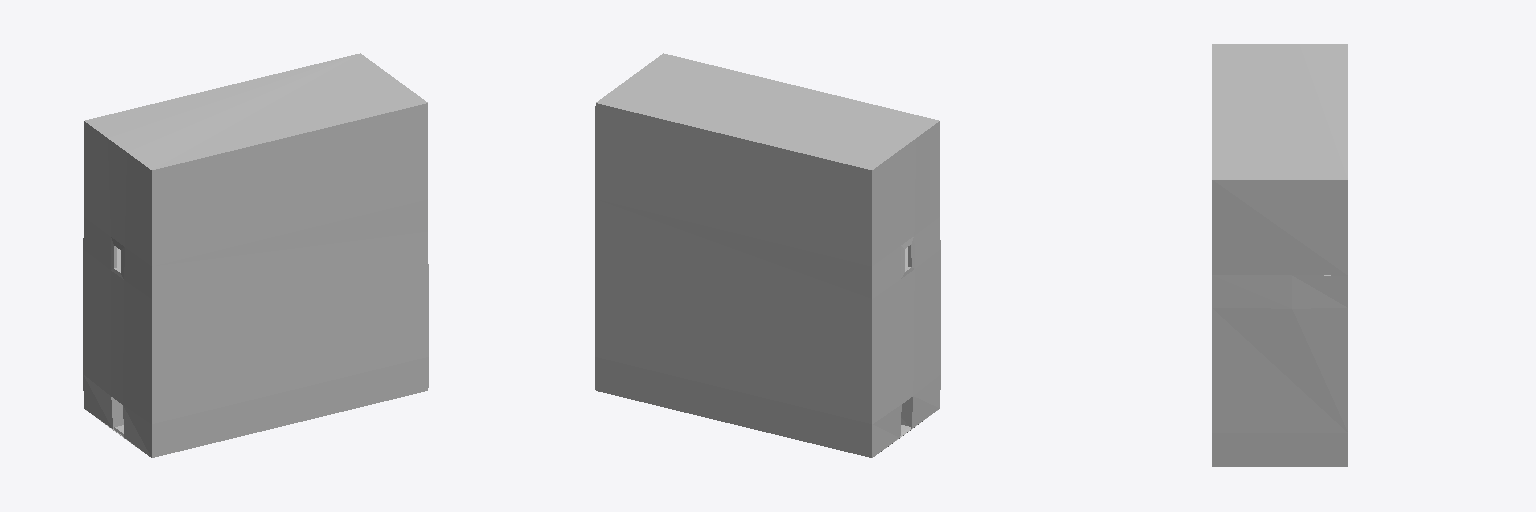
Rendered from buildingSPECIAL2.obj.
The picture shows the model from 3 angles: view 1: azimuth 30°, elevation 25°; view 2: azimuth 150°, elevation 25°; view 3: azimuth 270°, elevation 25°; orthographic projection.
Visible parts, largest first — view 1: buildingSPECIAL; view 2: buildingSPECIAL; view 3: buildingSPECIAL.
Boxes of the visible parts, <box> form: buildingSPECIAL: <box>83,53,428,457</box>; buildingSPECIAL: <box>595,53,940,457</box>; buildingSPECIAL: <box>1212,44,1347,466</box>.
Size of the model in its own units: 48.37 by 47.89 by 20.55.